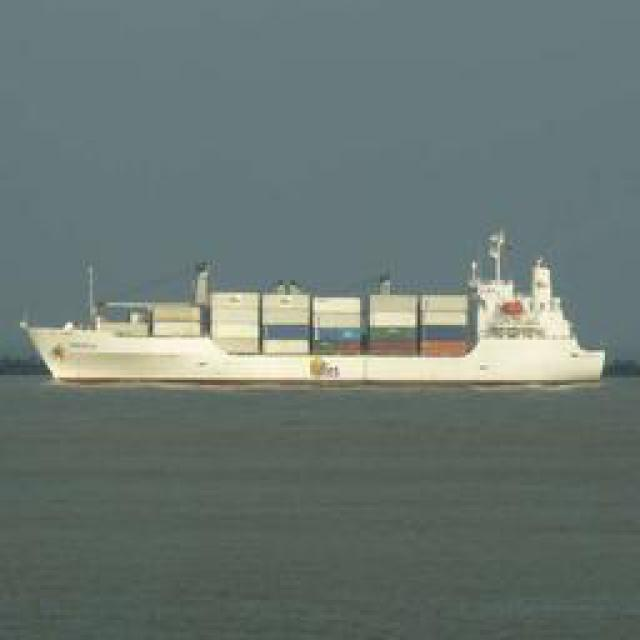Ship: (37, 251, 607, 394)
